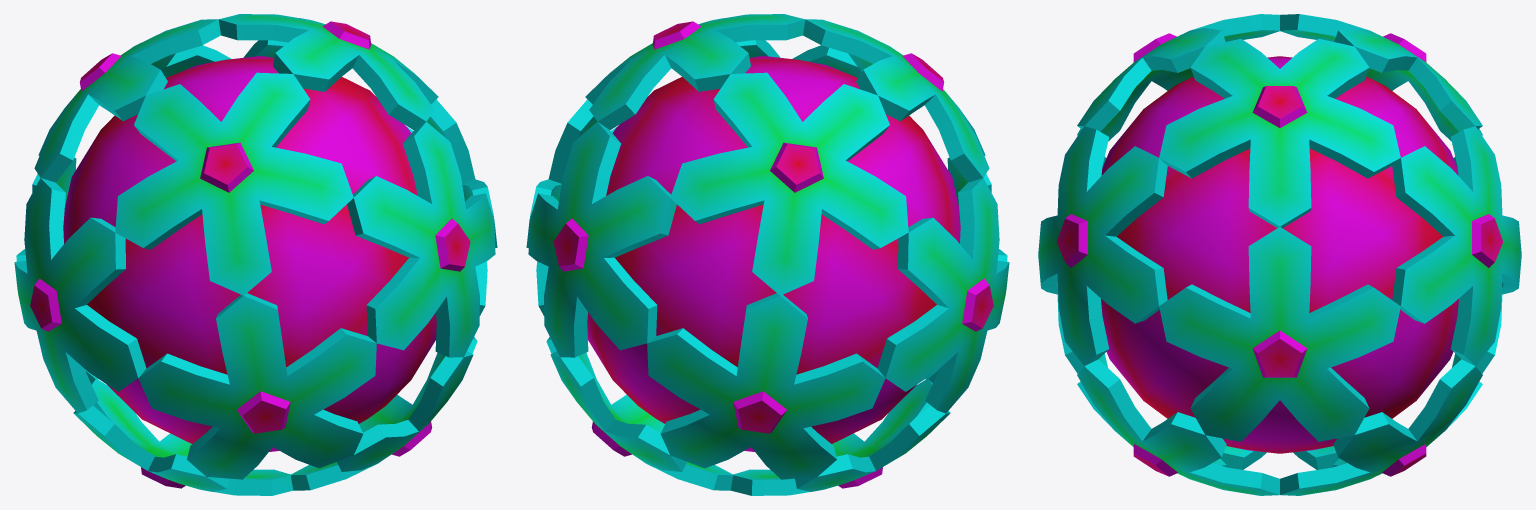
Rendered from SpiderBall.fbx.
The picture shows the model from 3 angles, left to right: view 1: azimuth 30°, elevation 25°; view 2: azimuth 150°, elevation 25°; view 3: azimuth 270°, elevation 25°; orthographic projection.
Parts seen in each view (by area): view 1: SpiderBall; view 2: SpiderBall; view 3: SpiderBall.
Part boxes in pixels (bbox=[...]): SpiderBall: bbox=[14, 14, 497, 495]; SpiderBall: bbox=[526, 14, 1009, 495]; SpiderBall: bbox=[1038, 14, 1521, 495].
Bounding box in the file's own units: 1.03 × 0.988 × 1.
